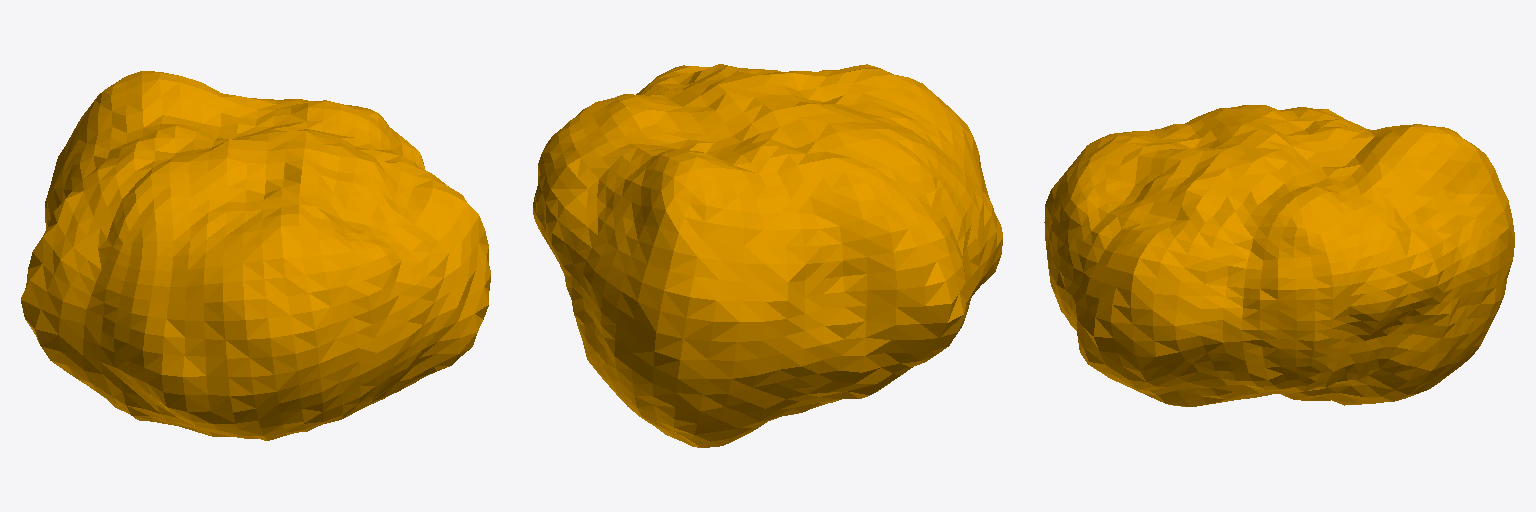
URDF robot description (rock):
<?xml version="1.0" ?>
<robot name="rock">
  <link name="rock">
    <inertial>
      <mass value="0.206"/>
      <origin rpy="0 0 0" xyz="0 0 0"/>
      <inertia ixx="0.000206" ixy="0" ixz="0" iyy="0.000206" iyz="0" izz="0.000206"/>
    </inertial>
    <collision name="rock_collision">
      <origin rpy="0 0 0" xyz="0 0 0"/>
      <geometry>
        <mesh filename="package://rocks/visual/140.dae" scale="1 1 1"/>
      </geometry>
    </collision>
    <visual name="rock_visual">
      <origin rpy="0 0 0" xyz="0 0 0"/>
      <geometry>
        <mesh filename="package://rocks/visual/140.dae" scale="1 1 1"/>
      </geometry>
    </visual>
  </link>
</robot>

--- Render facts (derived) ---
The picture shows the robot from 3 angles, left to right: view 1: azimuth 30°, elevation 25°; view 2: azimuth 150°, elevation 25°; view 3: azimuth 270°, elevation 25°; orthographic projection.
Model rock with 1 links and 0 joints (none), rooted at rock, posed all joints at 0.
Visible links, largest first — view 1: rock; view 2: rock; view 3: rock.
Link boxes in pixels (box(x1,y1,x2,y2)): rock: box(21, 71, 490, 440); rock: box(533, 64, 1002, 447); rock: box(1044, 105, 1514, 406).
Size in the robot's own frame: 0.0801 by 0.0883 by 0.0548 metres.
1 mesh visuals loaded from 1 distinct referenced files (1 Collada DAE).